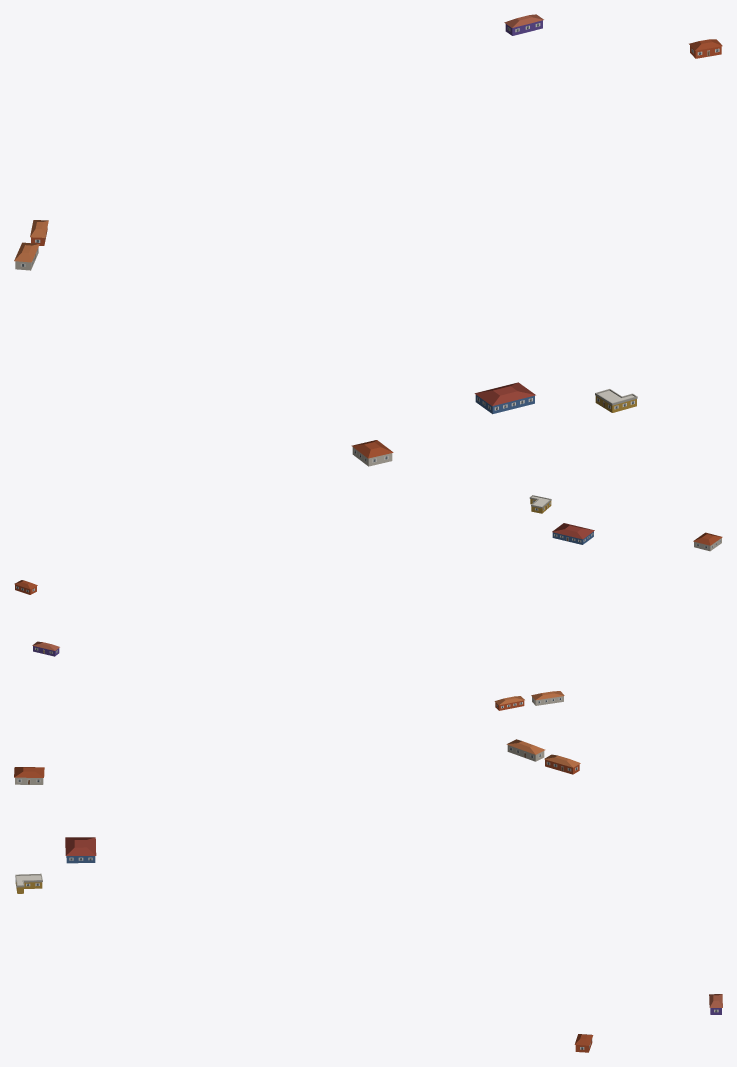
The model's file is msb_oranjestad_m11_3.glb.
3 renders of one model, top to bottom at view 1: azimuth 30°, elevation 25°; view 2: azimuth 150°, elevation 25°; view 3: azimuth 270°, elevation 25°, orthographic. The views are drawn at different scales.
Parts seen in each view (by area): view 1: msb_oranjestad_m11_3_lod0; view 2: msb_oranjestad_m11_3_lod0; view 3: msb_oranjestad_m11_3_lod0.
Part boxes in pixels (left/top/right/bottom): msb_oranjestad_m11_3_lod0: left=14, top=14, right=722, bottom=466; msb_oranjestad_m11_3_lod0: left=14, top=495, right=722, bottom=710; msb_oranjestad_m11_3_lod0: left=14, top=739, right=722, bottom=1052.
Size of what is drawn, in the model's own units: 317 by 11.6 by 302.
Materials: 3 (1 with a texture image).
